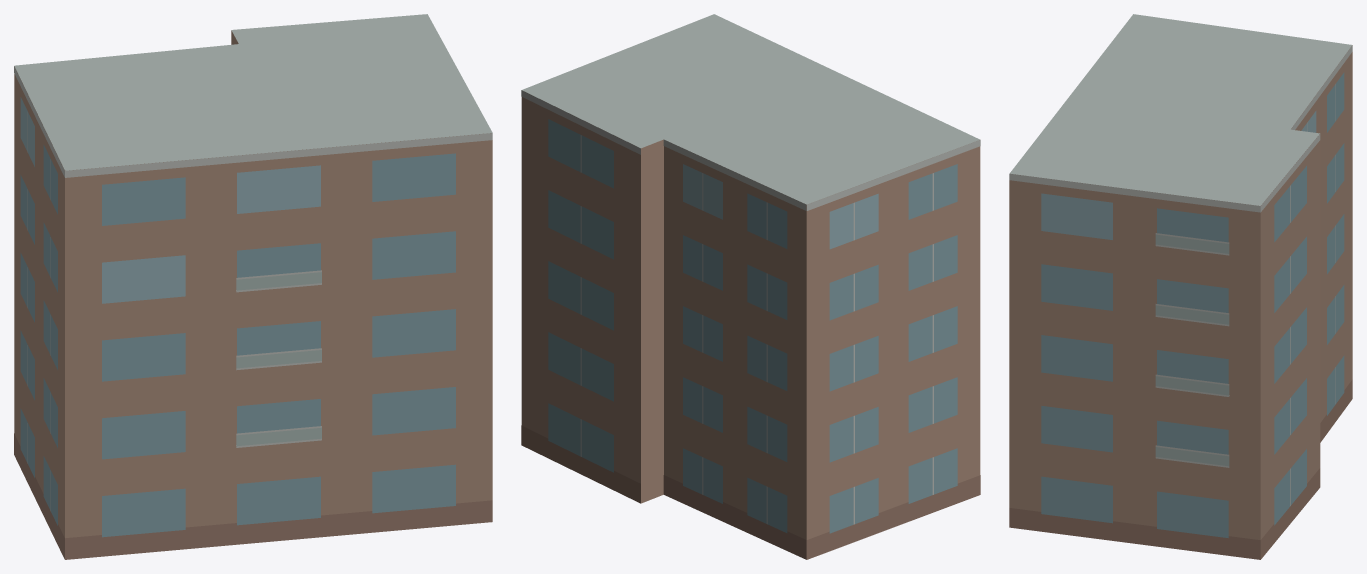
Rendered from survey-upis-32869841.glb.
The picture shows the model from 3 angles, left to right: view 1: azimuth 30°, elevation 25°; view 2: azimuth 150°, elevation 25°; view 3: azimuth 270°, elevation 25°; orthographic projection. The views are drawn at different scales.
Parts seen in each view (by area): view 1: survey-upis-32869841.tmp; view 2: survey-upis-32869841.tmp; view 3: survey-upis-32869841.tmp.
Part boxes in pixels (x1,y1,x2,y2): survey-upis-32869841.tmp: (14, 14, 492, 559); survey-upis-32869841.tmp: (521, 14, 980, 559); survey-upis-32869841.tmp: (1009, 14, 1352, 559).
Bounding box in the file's own units: 15.37 × 13.2 × 11.61.
